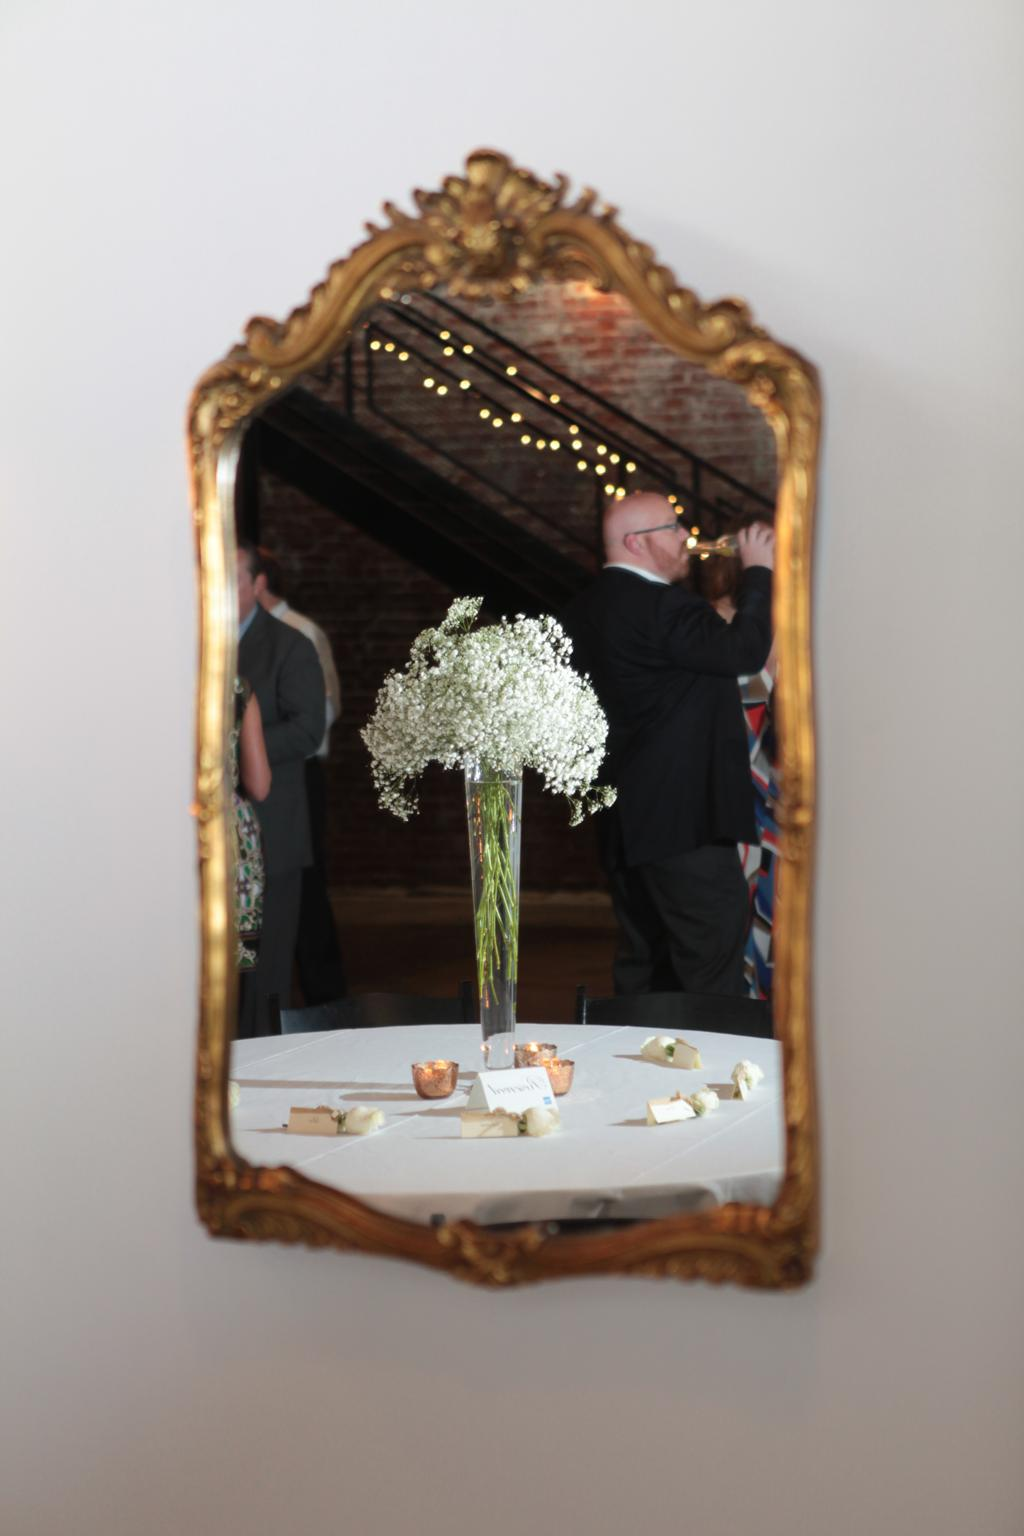face: (629, 496, 698, 580)
